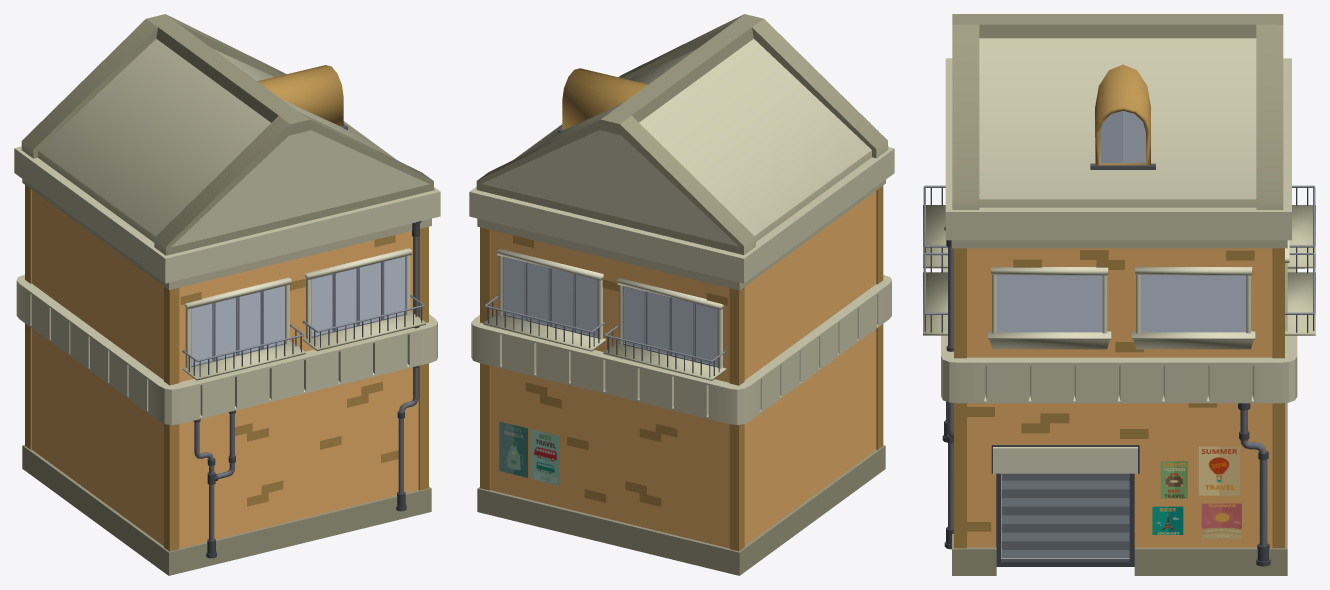
File: building04.FBX
3 renders of one model, left to right at view 1: azimuth 30°, elevation 25°; view 2: azimuth 150°, elevation 25°; view 3: azimuth 270°, elevation 25°, orthographic. The views are drawn at different scales.
Parts seen in each view (by area): view 1: building04; view 2: building04; view 3: building04.
Part boxes in pixels (left/top/right/bottom): building04: left=14, top=14, right=440, bottom=575; building04: left=469, top=14, right=894, bottom=575; building04: left=923, top=14, right=1315, bottom=575.
Bounding box in the file's own units: 369 × 536 × 395.
